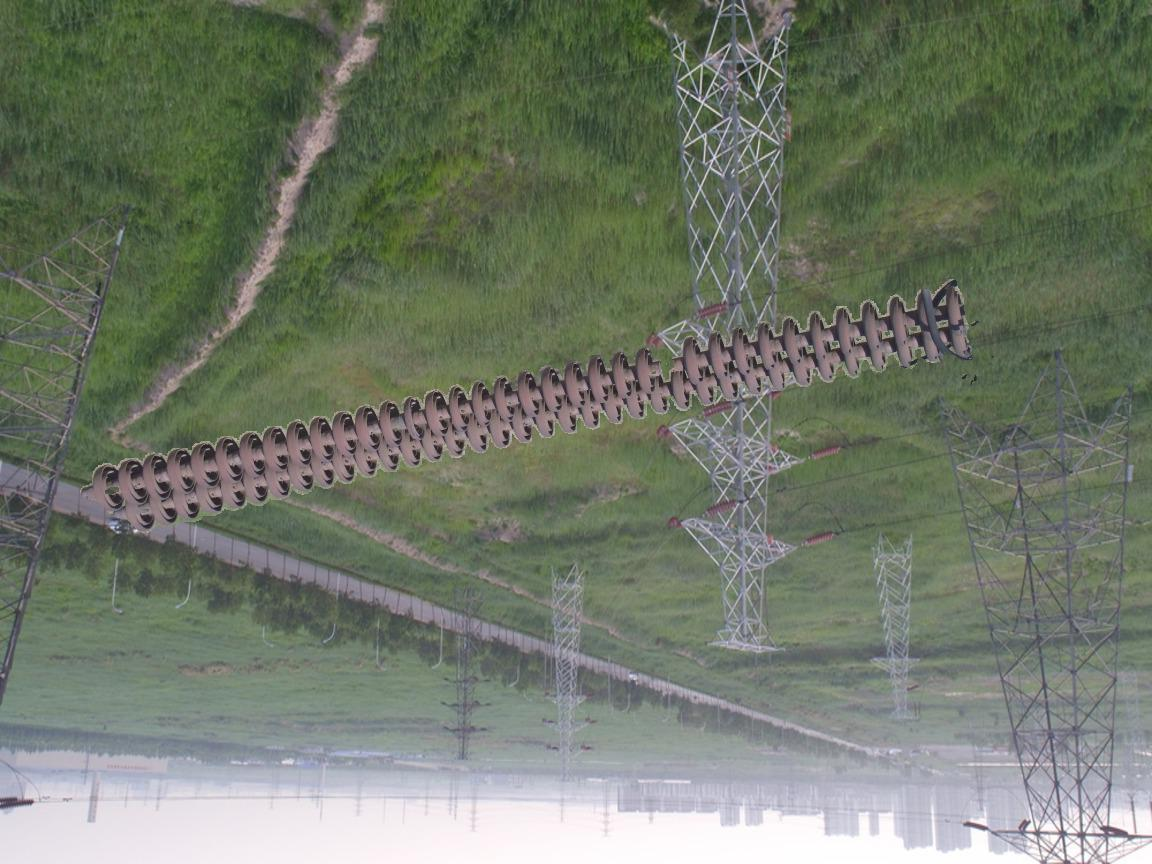insulator: (88, 279, 976, 540)
insulator_stringdrop: (634, 334, 705, 395)
